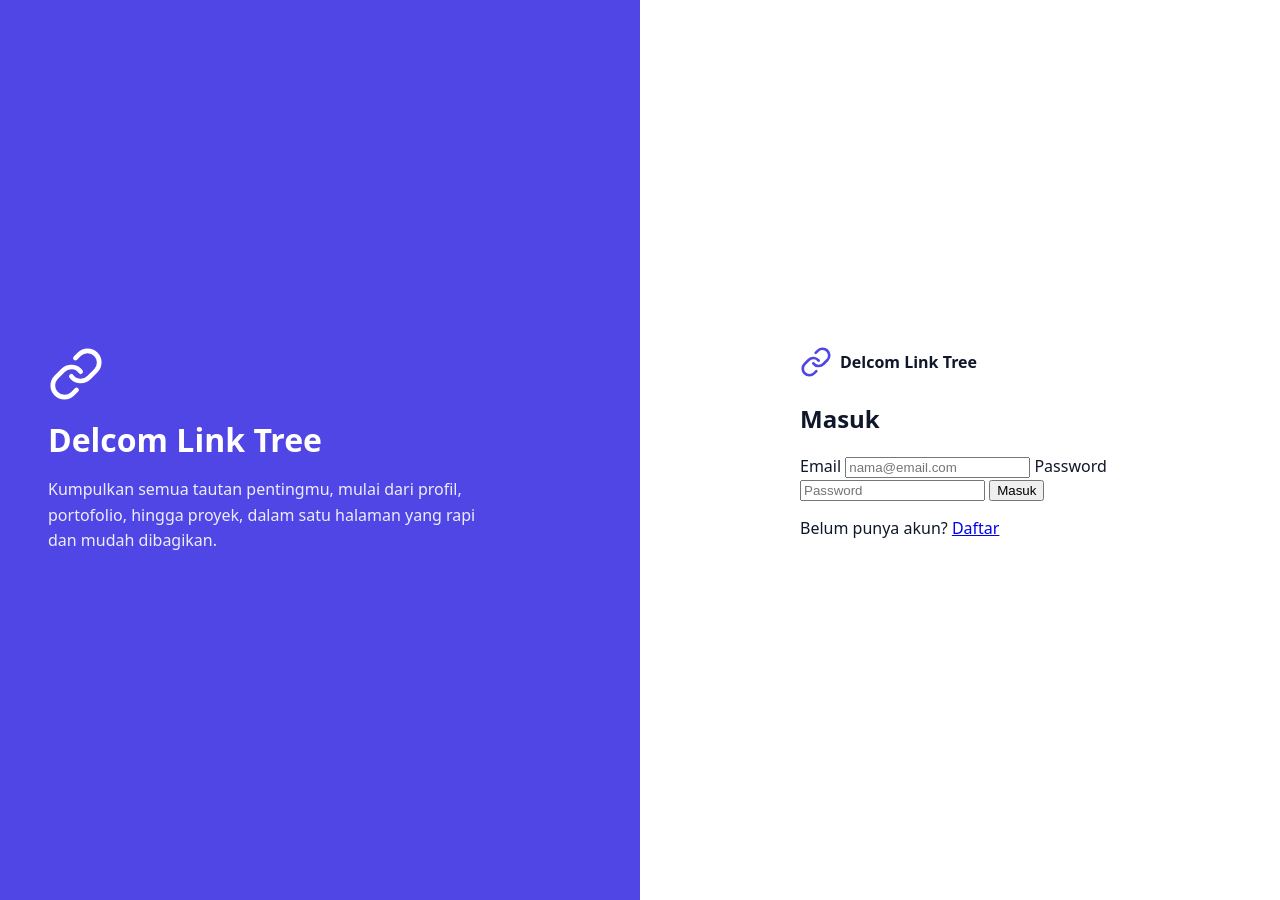
Test: LoginPage › menolak password kosong
In the field labelled "Email": (938, 467) [845,456,1030,478], type "a@b.co"
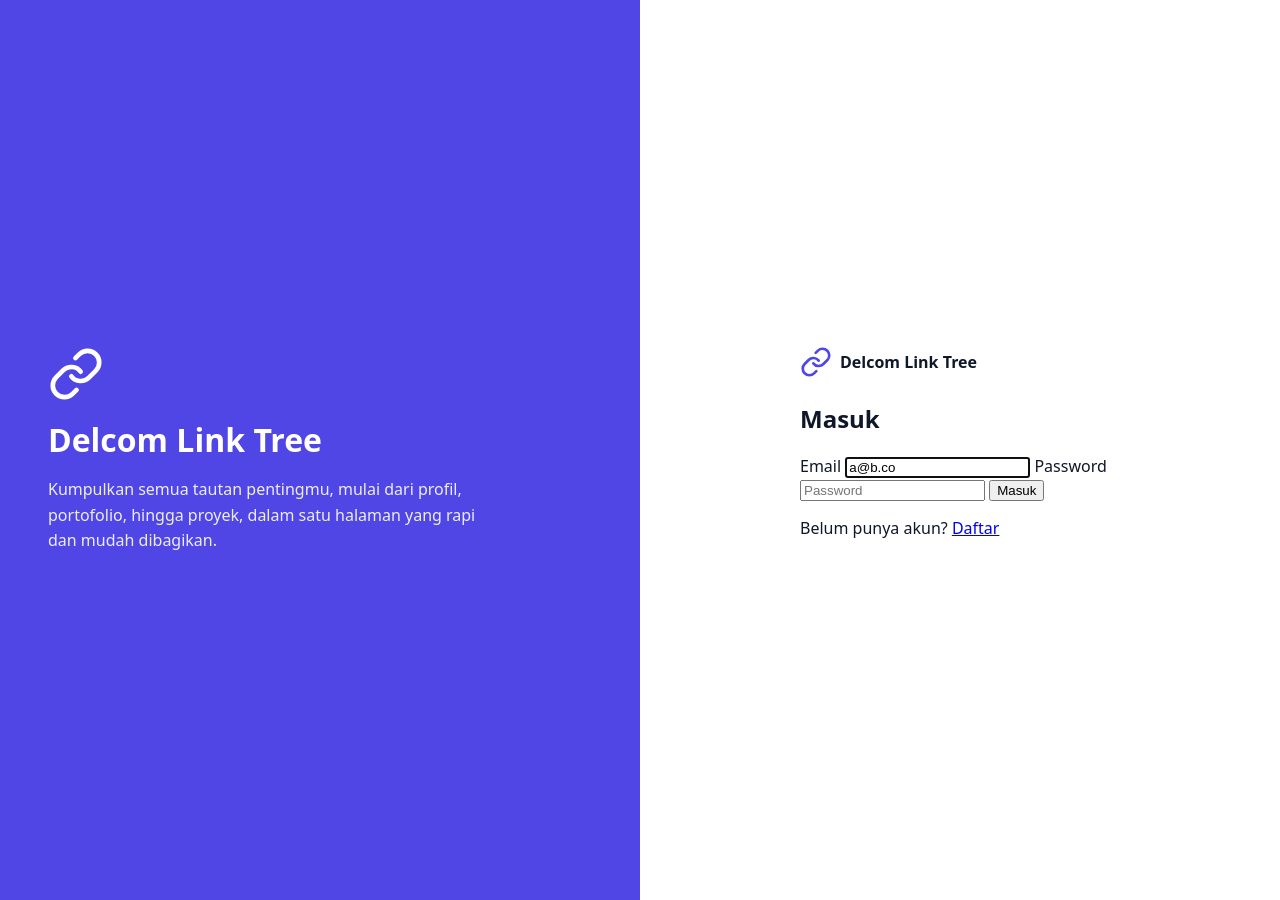
Click the button "Masuk": click(1017, 490) [989,480,1044,500]
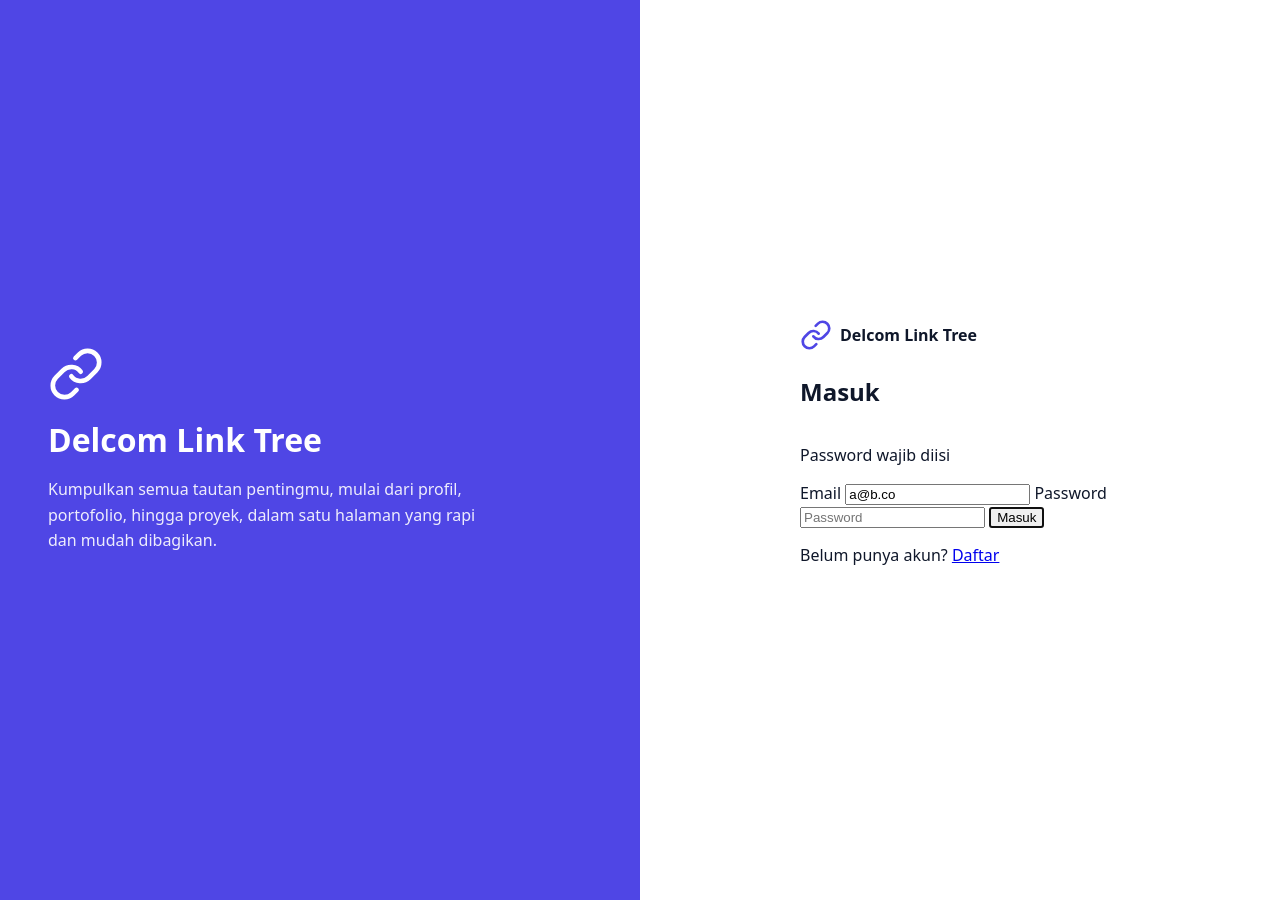
Expected: the text "Password wajib diisi" is shown, [800,444,950,466]
